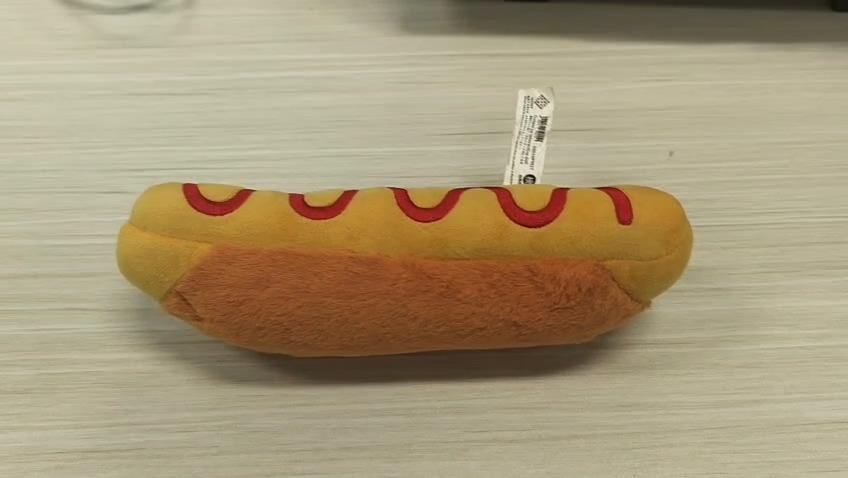hotdog: (115, 179, 694, 358)
